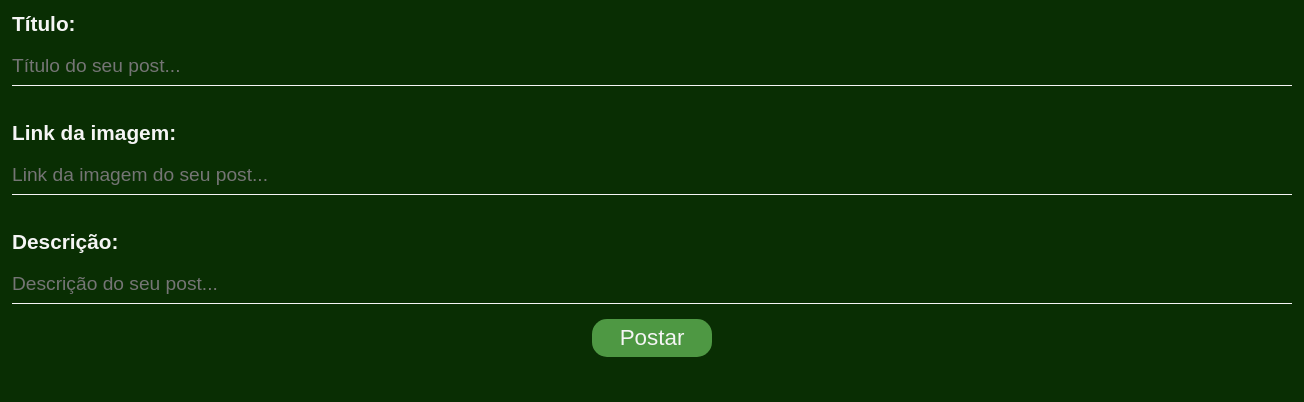
Scenario: Form Component › should display error message for invalid image URL
The width and height of the screenshot is (1304, 402).
Step 1. Type "Post 1" into the field labelled "Título:" → (652, 66), box [12,46,1292,86]
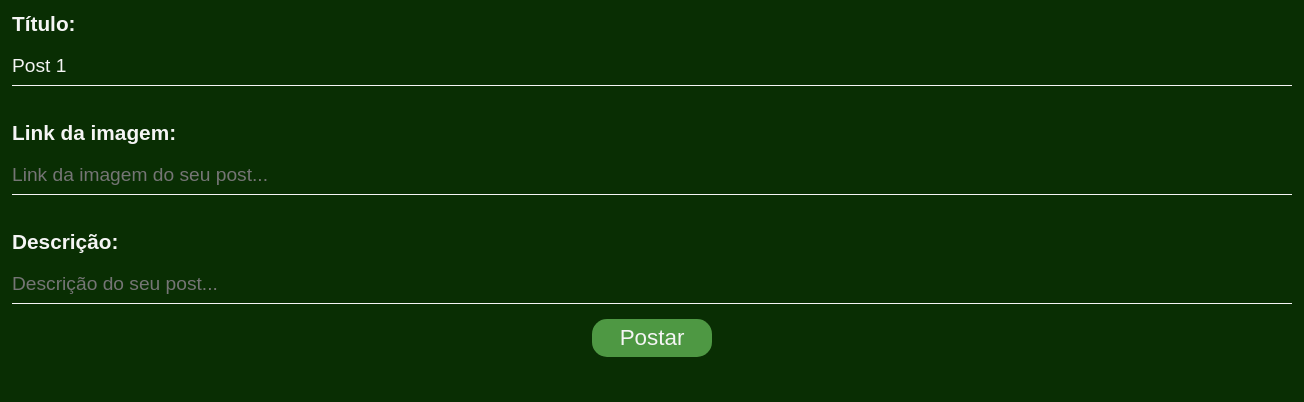
Step 2. Type "invalid-url" into the field labelled "Link da imagem:" → (652, 175), box [12,155,1292,195]
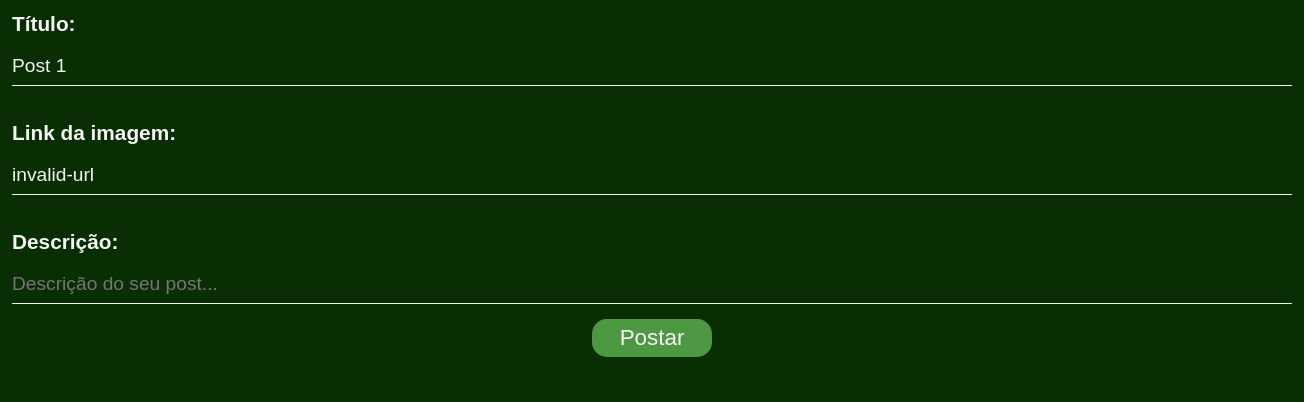
Step 3. Type "Teste de descrição" into the field labelled "Descrição:" → (652, 284), box [12,264,1292,304]
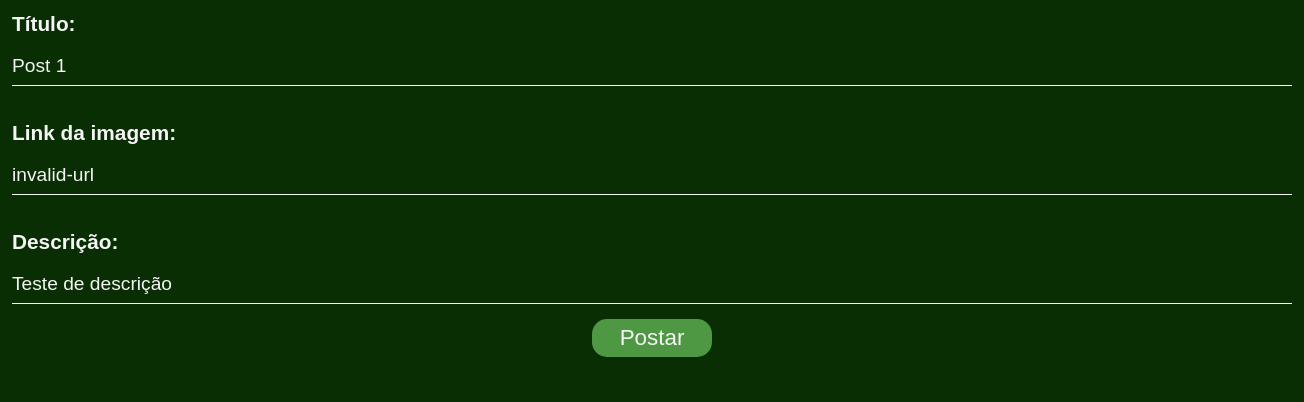
Step 4. Click the button "Postar" → click(652, 338), box [592,319,712,357]
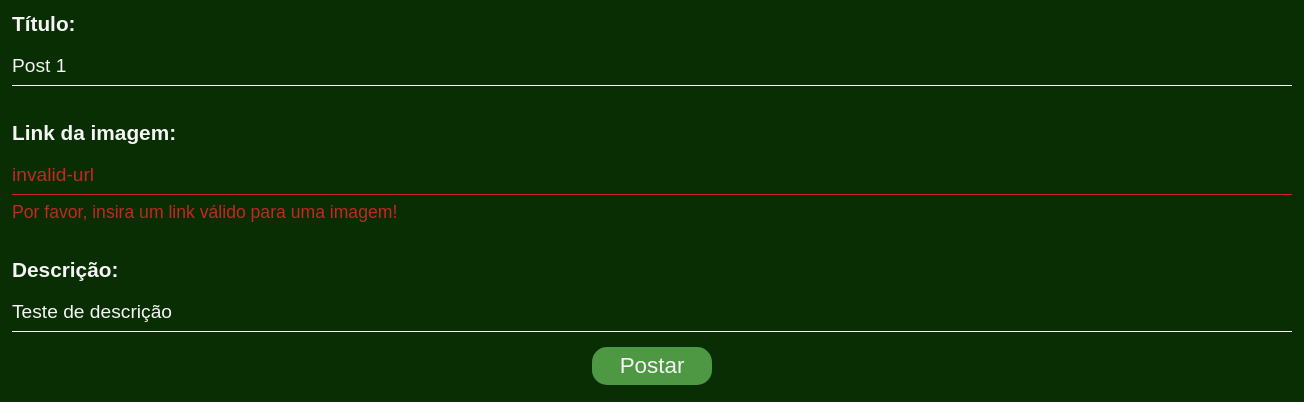
Now the text "Por favor, insira um link válido para uma imagem!" is shown, box [12,202,397,222]
